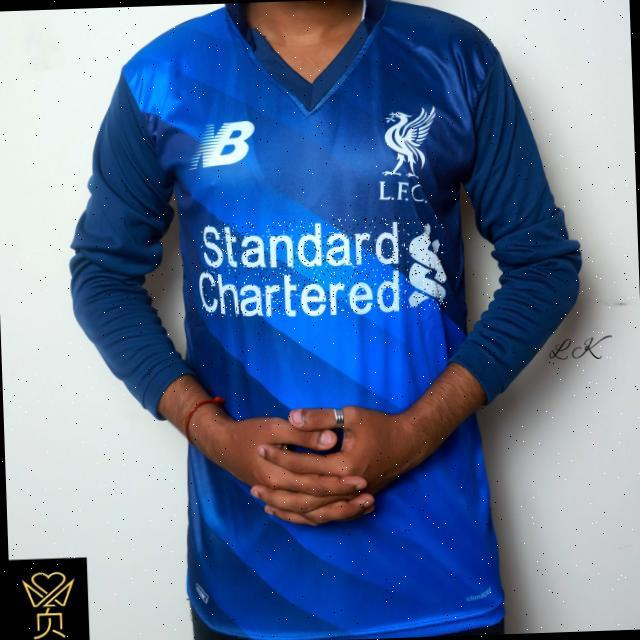Standard Chartered: (199, 215, 447, 318)
